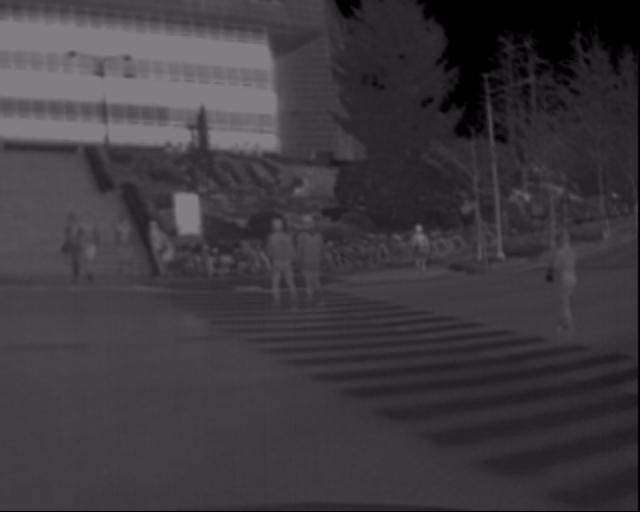person: (256, 213, 308, 319), (538, 220, 582, 334), (289, 210, 334, 321), (46, 207, 95, 294), (72, 207, 106, 292), (141, 220, 178, 289), (106, 211, 139, 288), (402, 224, 436, 288), (482, 203, 519, 260)
